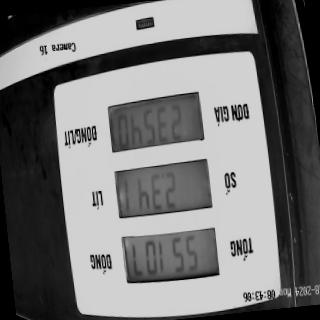screen: (104, 85, 223, 292)
